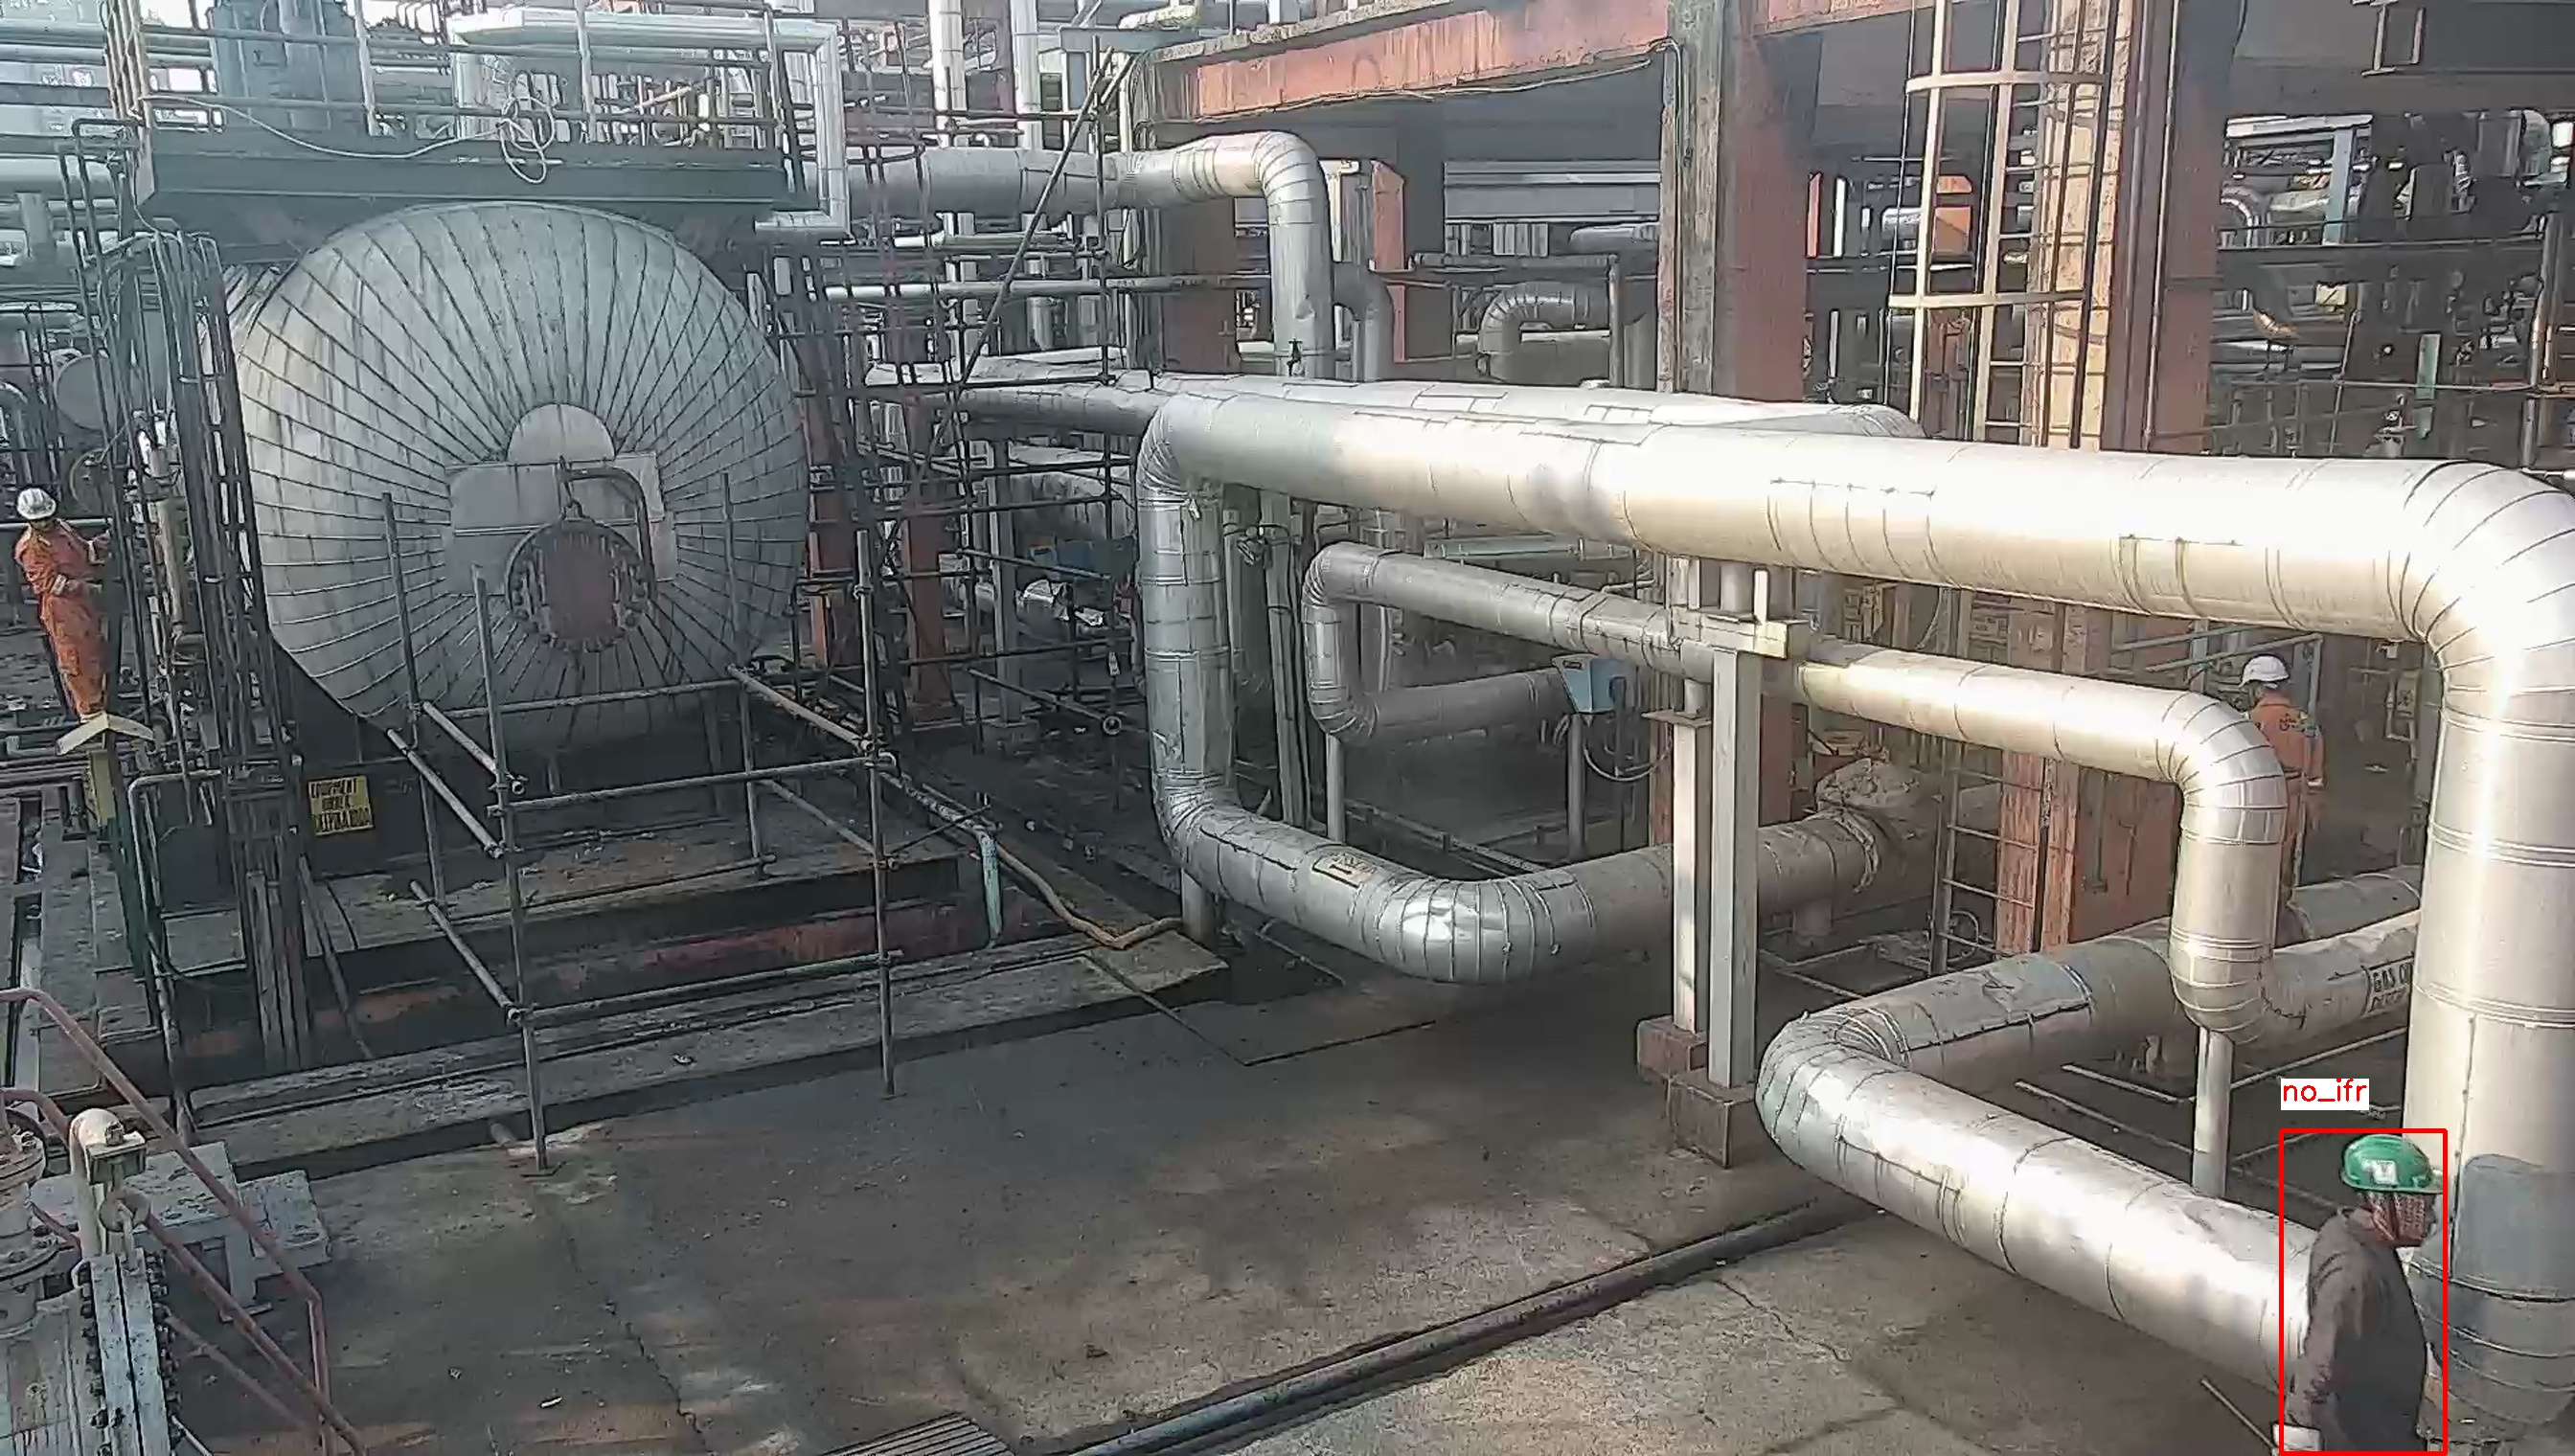Helmets: (2333, 1136, 2448, 1203), (2234, 651, 2296, 697), (9, 485, 64, 522)
IFR_Suit: (9, 525, 120, 718), (2239, 701, 2329, 892)
